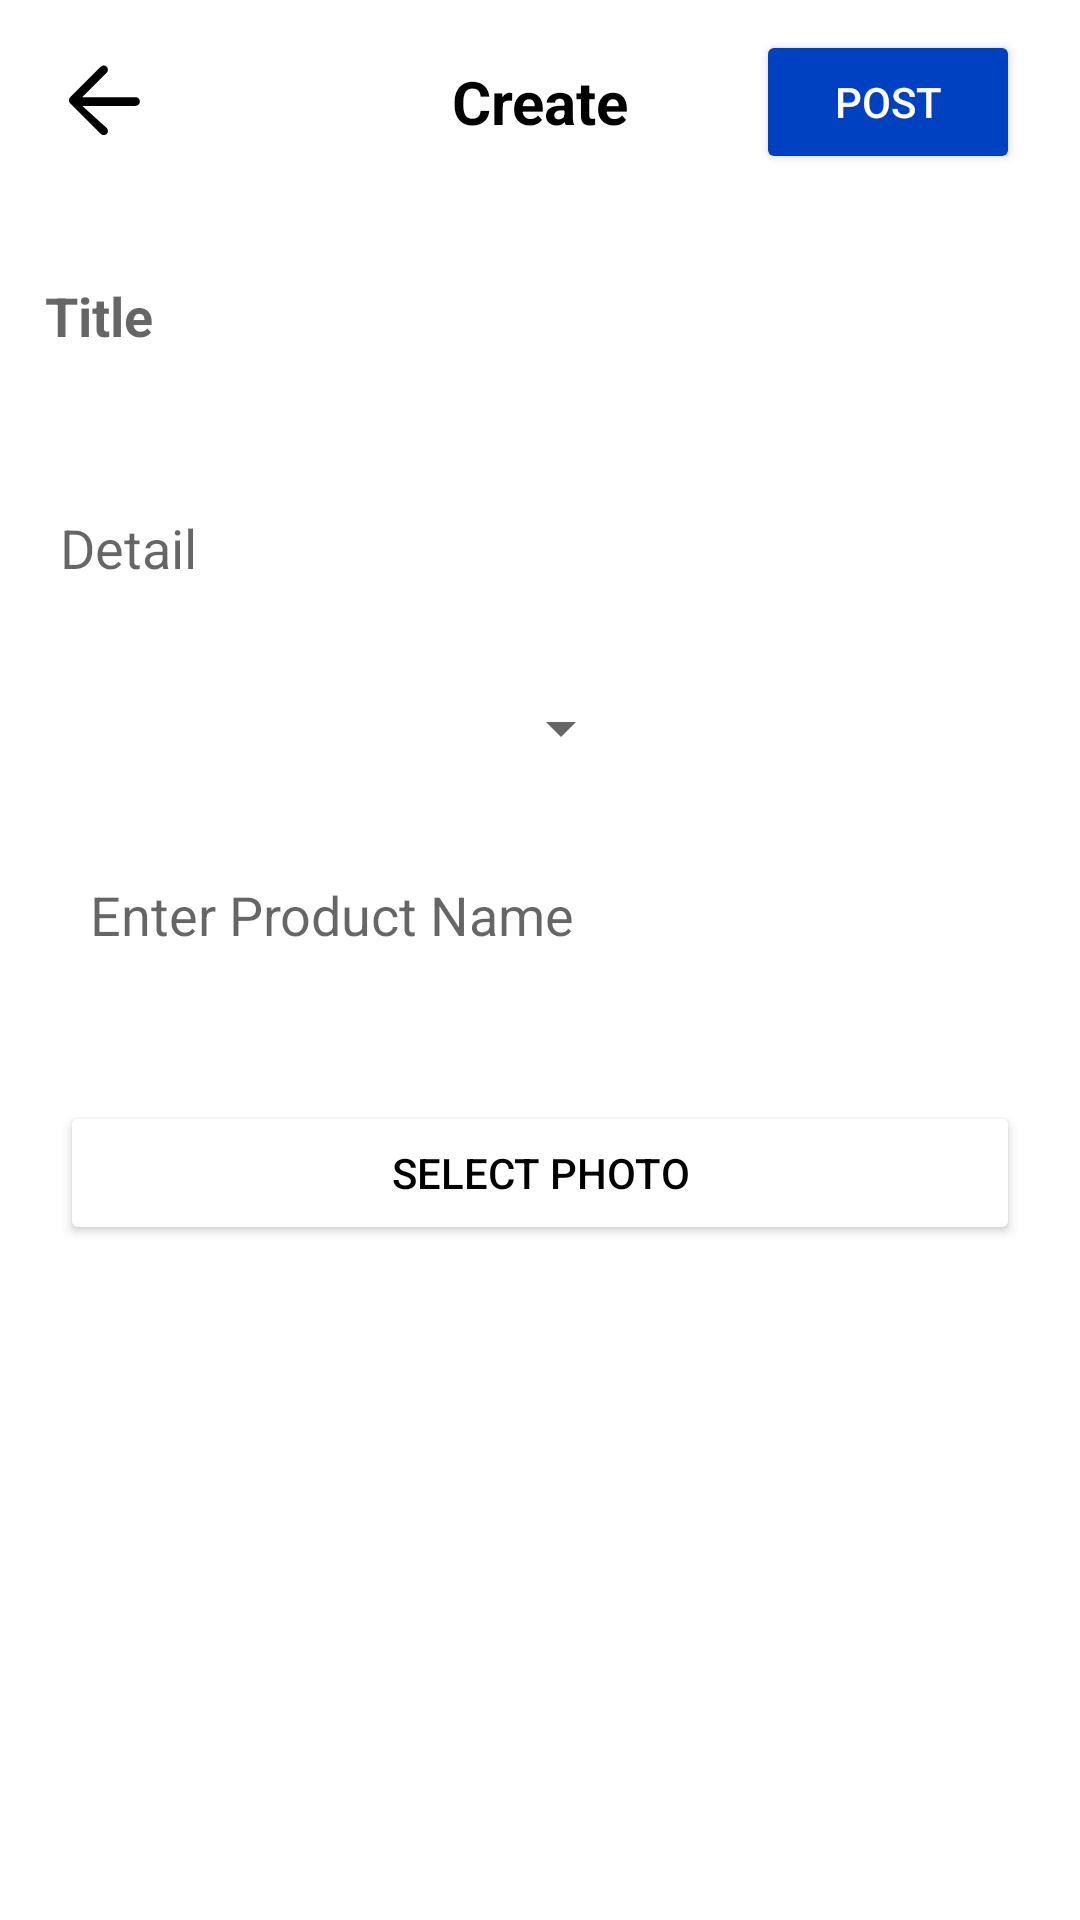

Named icons in this screenshot (1080*1920) and their centers, (x=x, y=y):
This show back button: (x=104, y=100)
